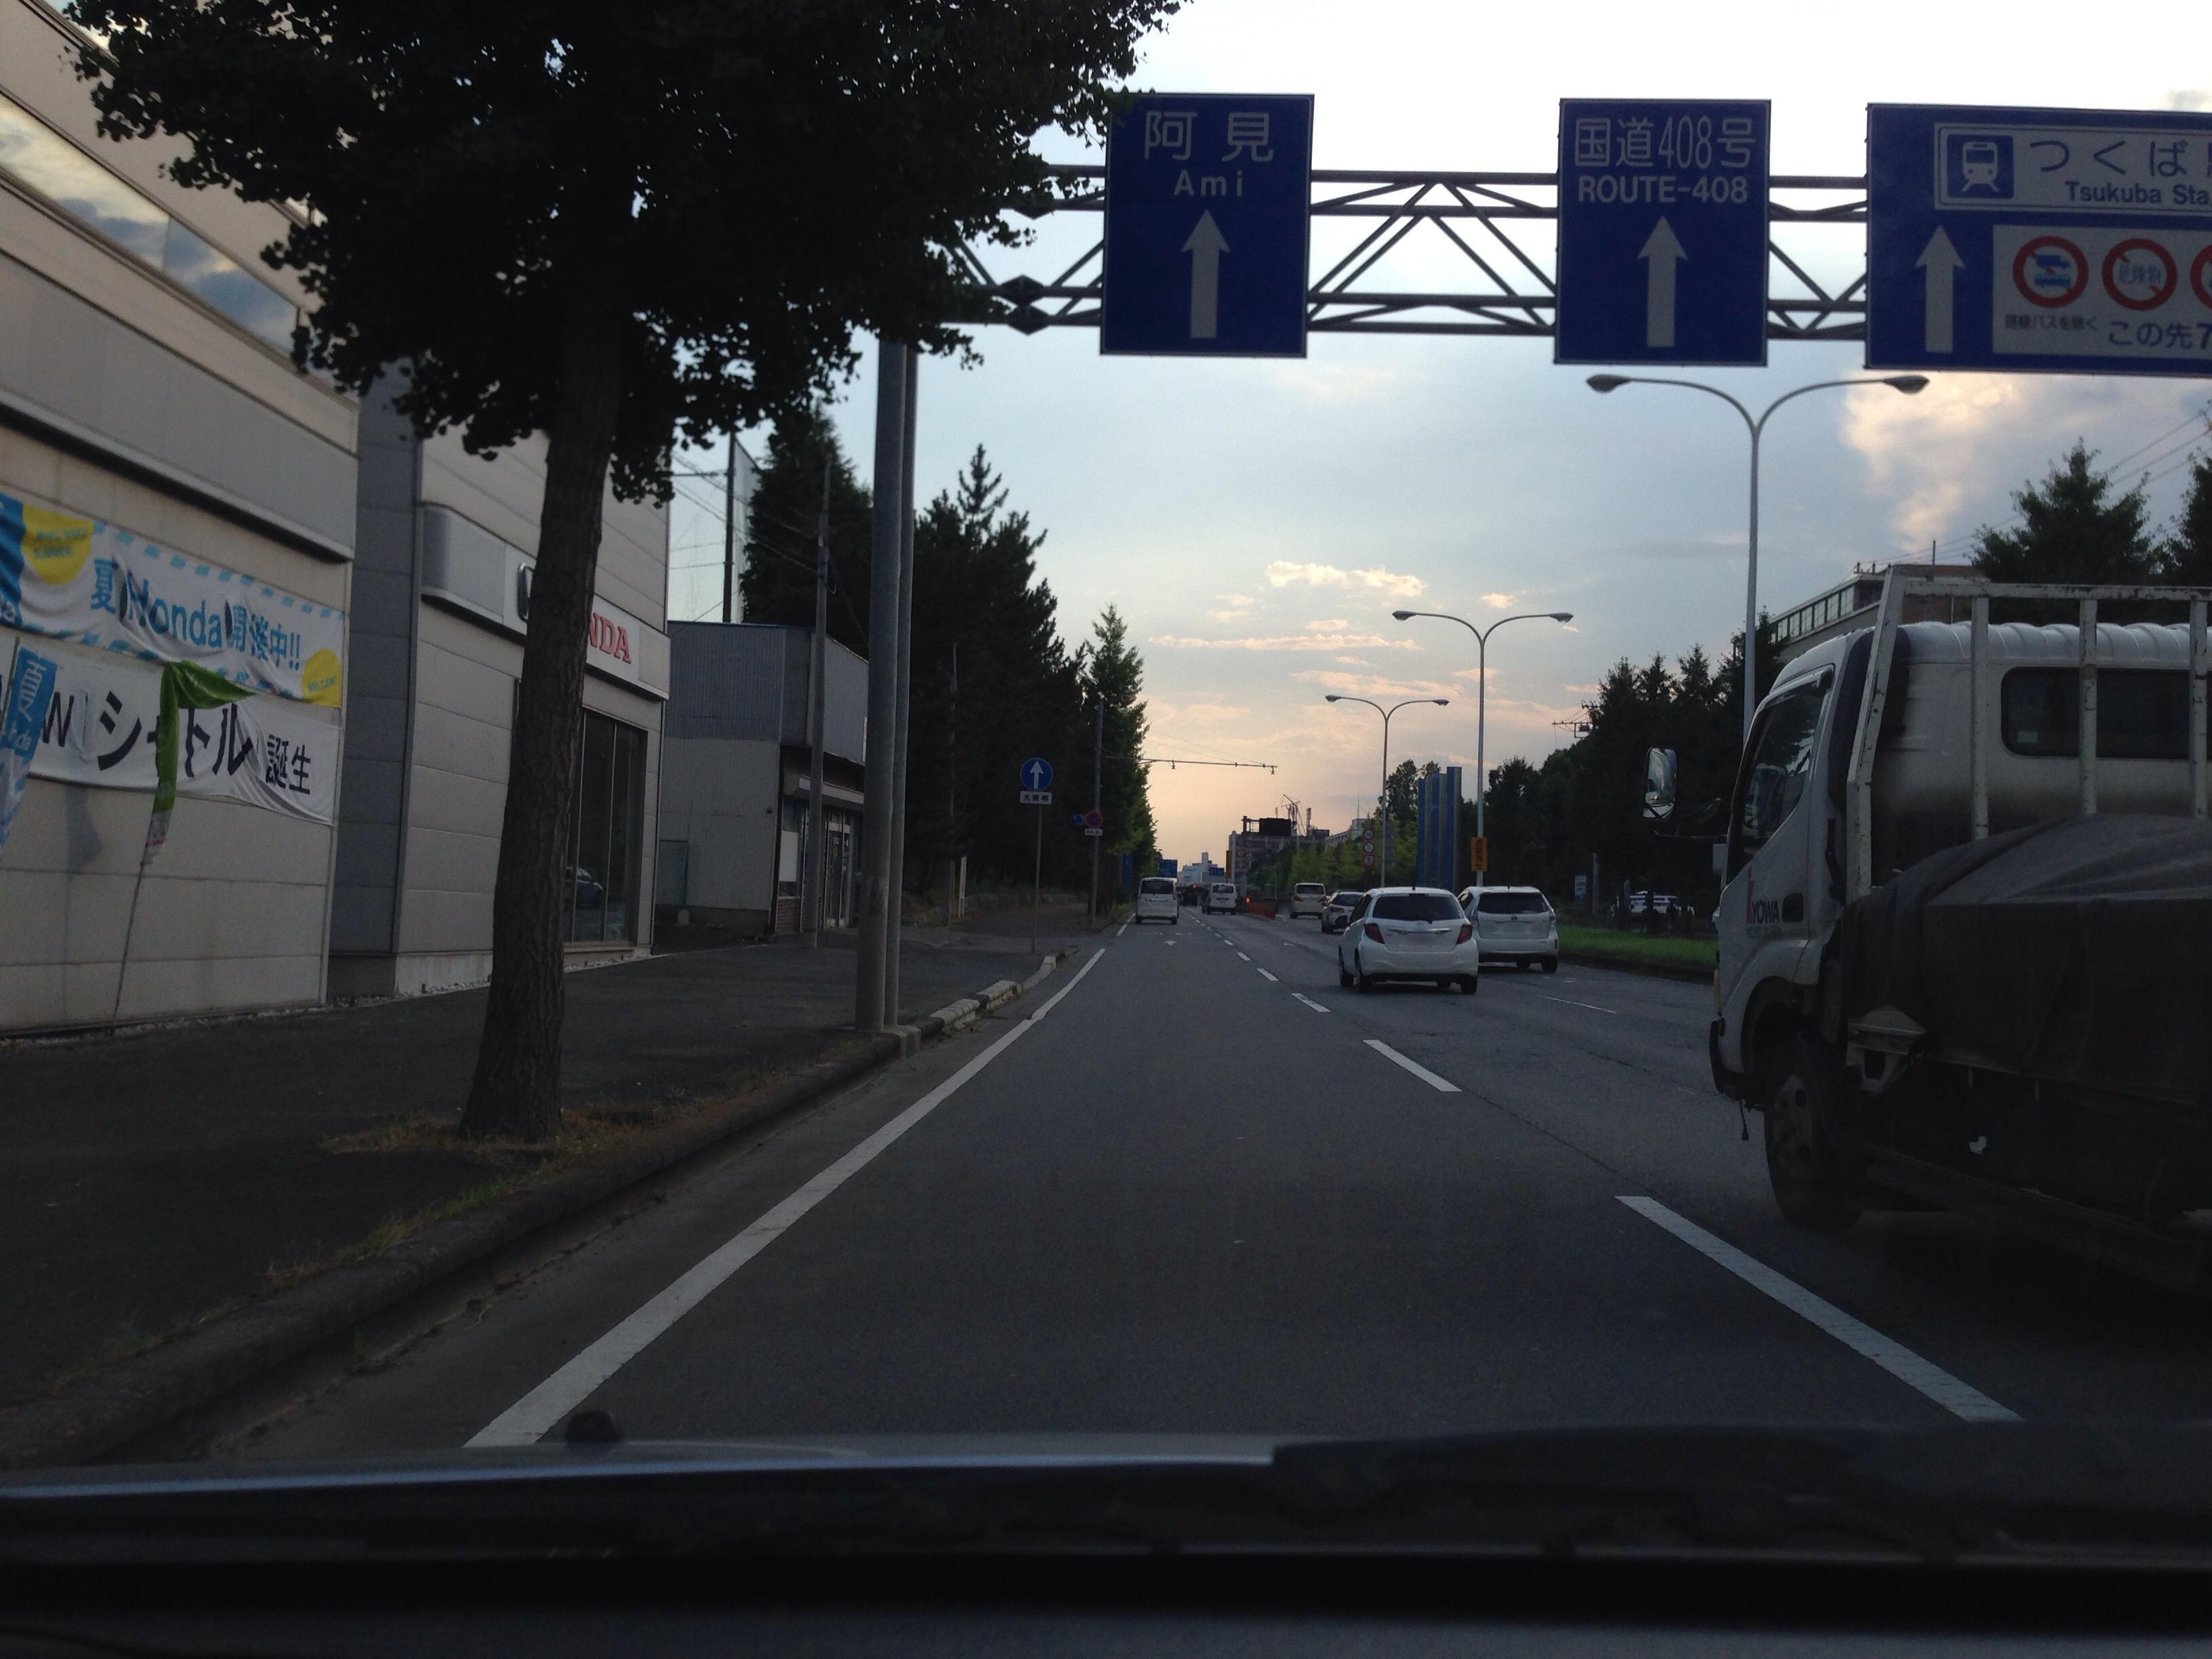vinyl banner: (7, 479, 371, 708), (12, 645, 354, 850)
